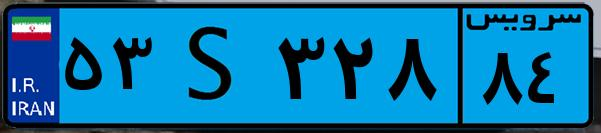2: (330, 28, 385, 110)
3: (270, 28, 330, 110), (110, 28, 158, 98)
4: (525, 38, 570, 115)
5: (57, 26, 110, 100)
8: (385, 28, 445, 110), (475, 38, 525, 113)
S: (158, 12, 270, 120)
